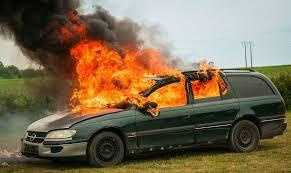fire: (66, 21, 233, 116)
